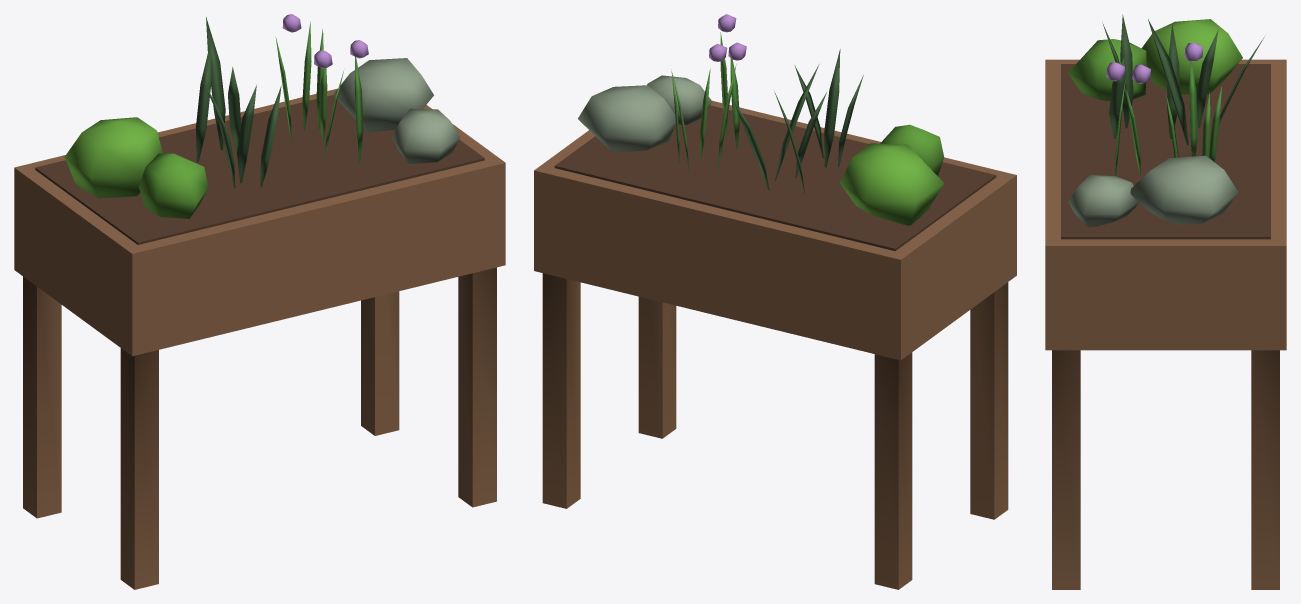
The model's file is herbs.far.glb.
3 views of the same model, side by side, from view 1: azimuth 30°, elevation 25°; view 2: azimuth 150°, elevation 25°; view 3: azimuth 270°, elevation 25° (orthographic). The views are drawn at different scales.
Visible parts, largest first — view 1: herbs; view 2: herbs; view 3: herbs.
Part boxes in pixels (left/top/right/bottom): herbs: left=14, top=14, right=505, bottom=589; herbs: left=534, top=14, right=1016, bottom=589; herbs: left=1045, top=14, right=1286, bottom=589.
Size of the model in its own units: 0.84 by 1.01 by 0.46.
